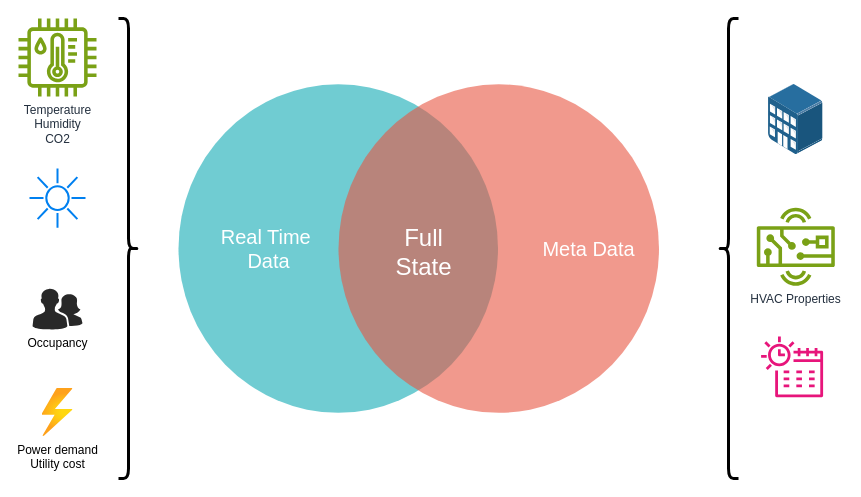
This 861x497 diagram has some shape labels left out. Here are the shapes that lost their labels. From the top down, the centre of each, then its label:
the point at 795,119: Building envelope
the point at 57,197: Weather
the point at 792,366: Schedules
